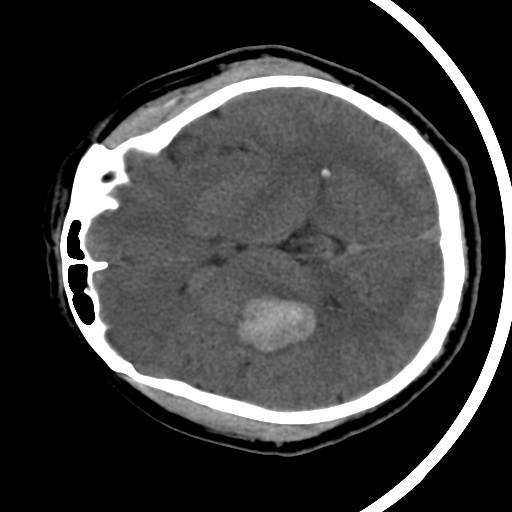a: (215, 279, 330, 367)
